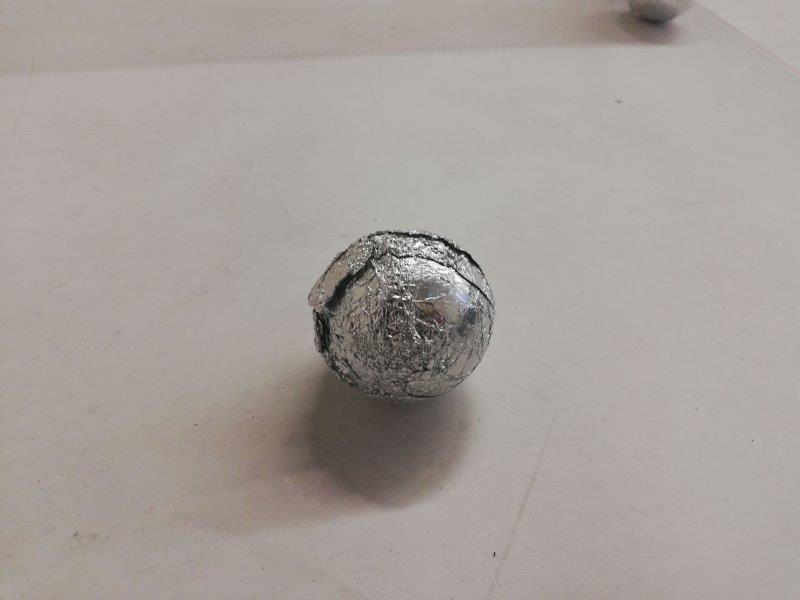bianca: (317, 229, 495, 401)
